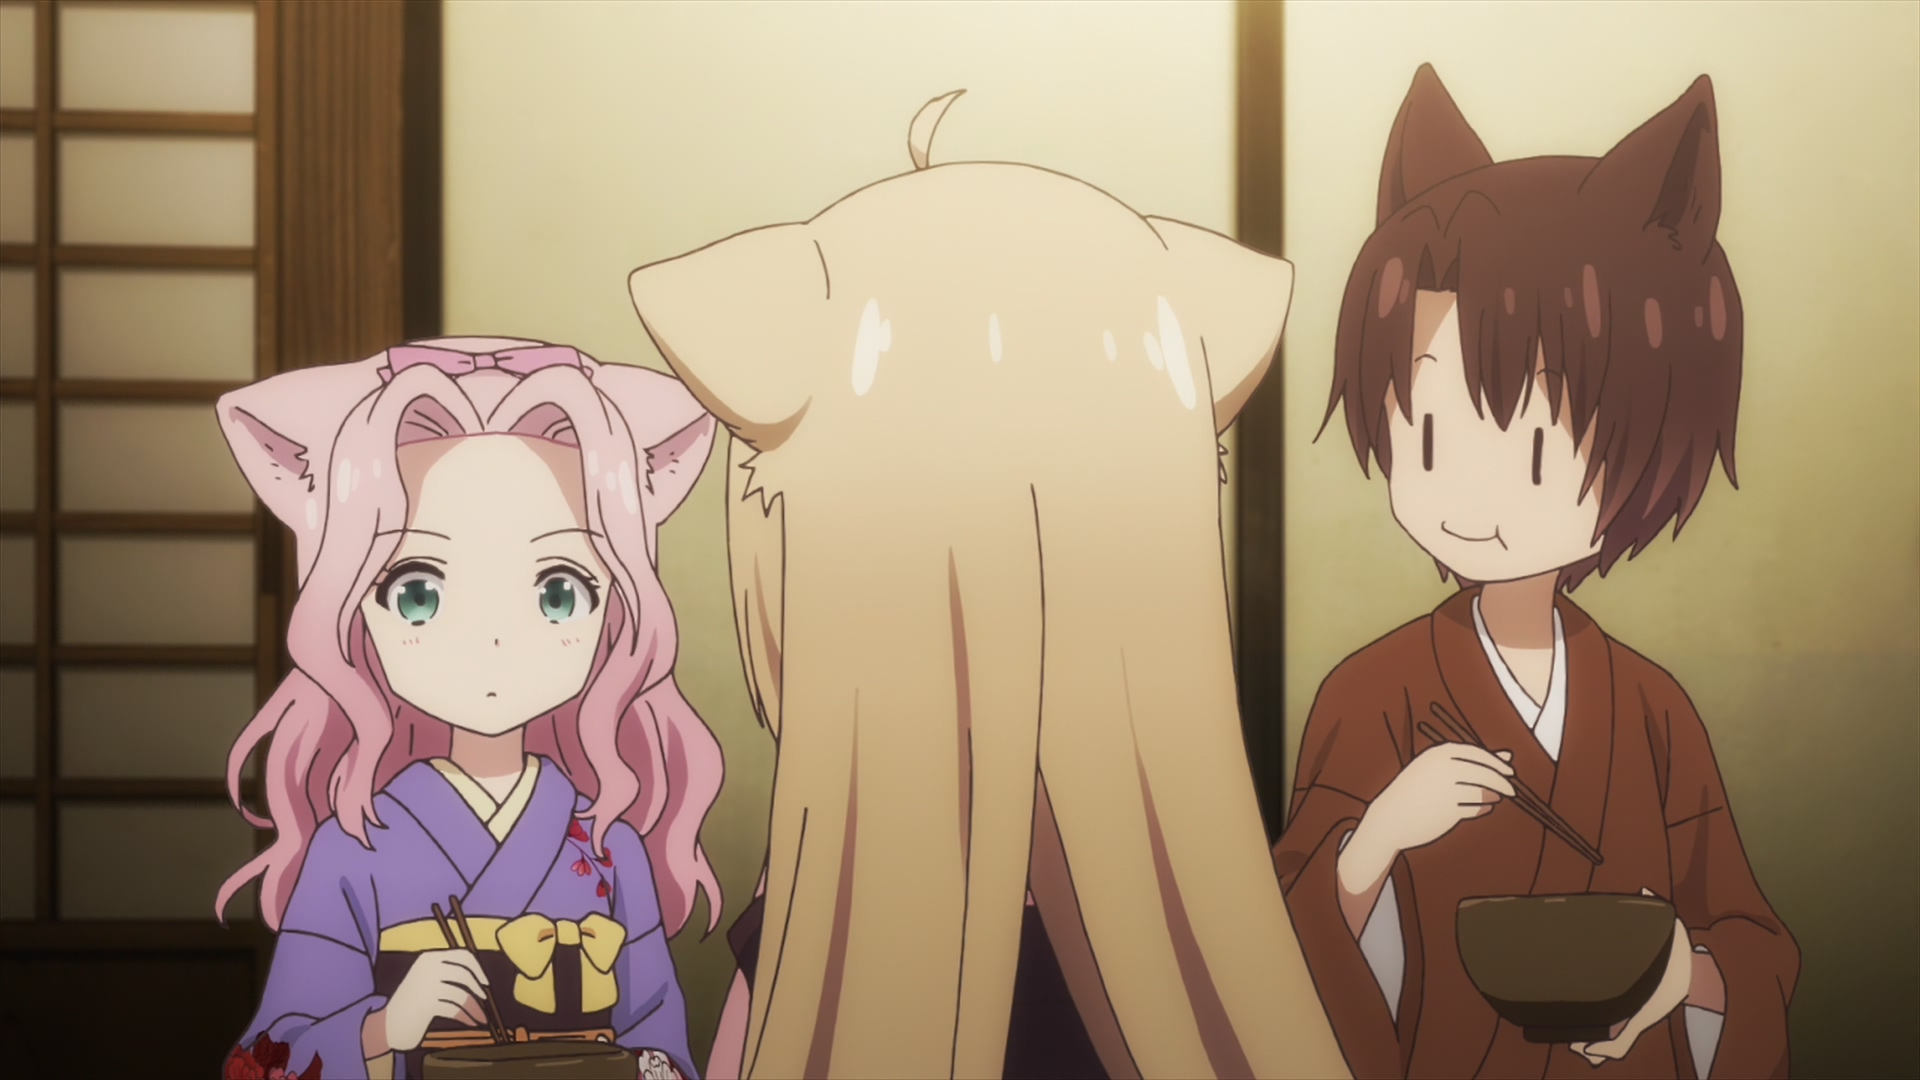枣: (1273, 63, 1799, 1080)
柚: (630, 90, 1352, 1080)
莲: (216, 338, 723, 1080)
